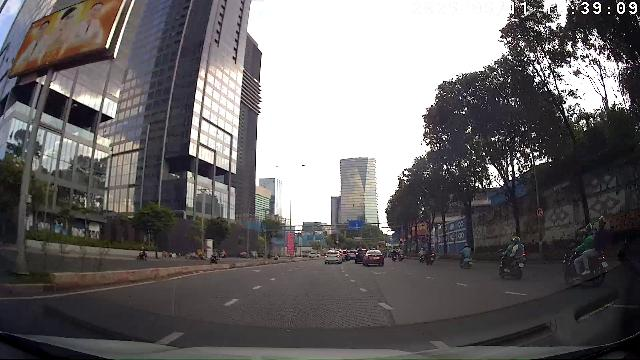103b-cam-oto-re-phai: (536, 207, 544, 218)
